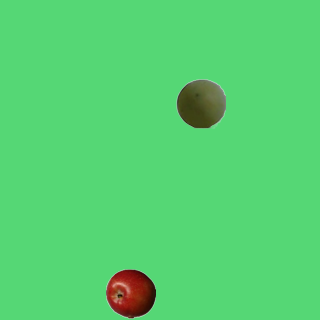Apple Braeburn: (105, 268, 155, 318)
Grape White 4: (175, 78, 225, 128)
